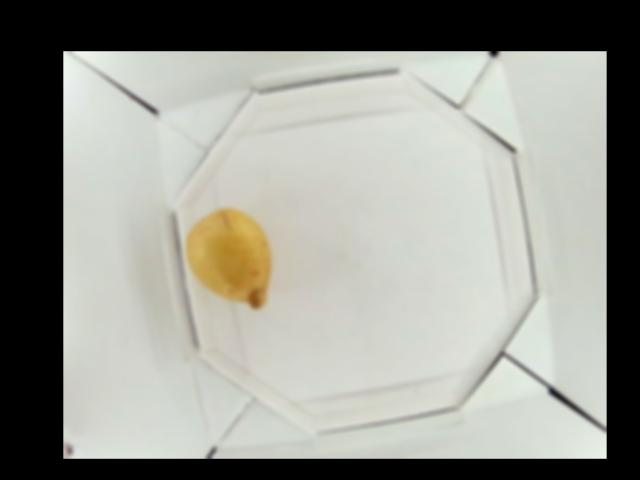Potato: (186, 207, 273, 310)
